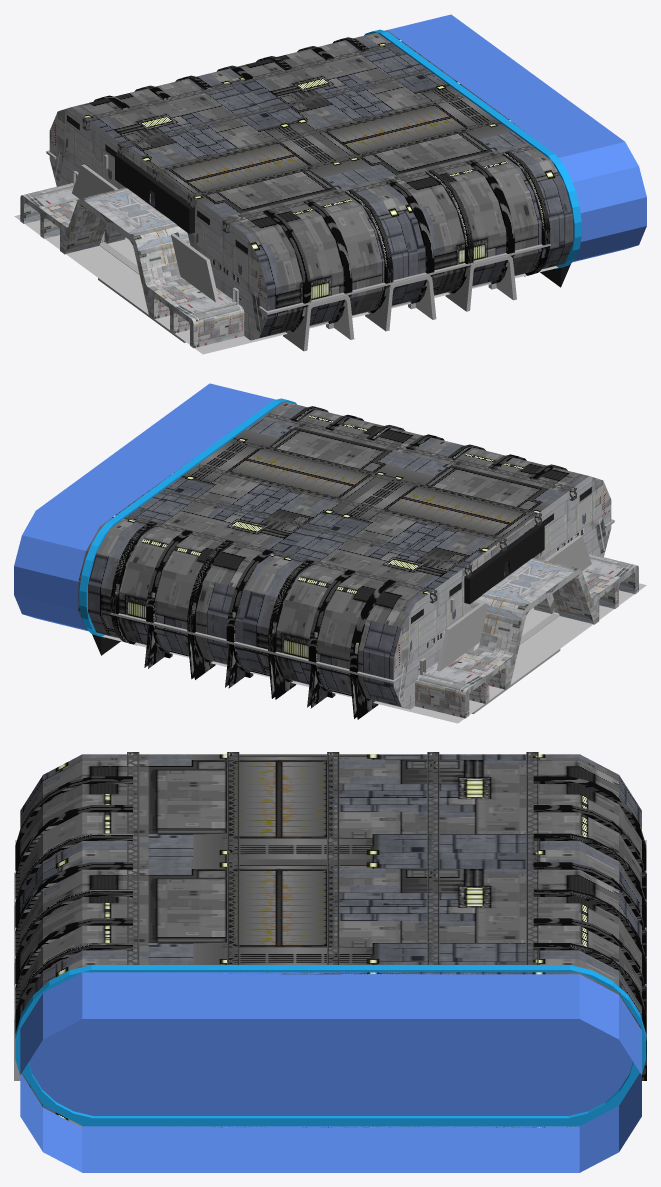
The model's file is LandingBay.obj.
The picture shows the model from 3 angles, top to bottom: view 1: azimuth 30°, elevation 25°; view 2: azimuth 150°, elevation 25°; view 3: azimuth 270°, elevation 25°; orthographic projection. The views are drawn at different scales.
Visible parts, largest first — view 1: spanel3, wpanels, blueShade, structs, grey, girder, asphalt, black, bluelight; view 2: spanel3, wpanels, blueShade, structs, girder, grey, asphalt, services1, black, bluelight; view 3: spanel3, blueShade, structs, bluelight, girder, grey.
Boxes of the visible parts, bbox=[...] form: spanel3: bbox=[72, 30, 572, 339]; wpanels: bbox=[20, 107, 267, 348]; blueShade: bbox=[387, 14, 646, 261]; structs: bbox=[94, 37, 550, 331]; grey: bbox=[46, 150, 550, 351]; girder: bbox=[82, 43, 533, 233]; asphalt: bbox=[14, 215, 558, 354]; black: bbox=[115, 153, 570, 299]; bluelight: bbox=[153, 29, 581, 268]; spanel3: bbox=[78, 401, 588, 708]; wpanels: bbox=[393, 476, 638, 718]; blueShade: bbox=[14, 383, 275, 631]; structs: bbox=[110, 406, 567, 700]; girder: bbox=[126, 413, 576, 603]; grey: bbox=[110, 519, 614, 713]; asphalt: bbox=[102, 583, 646, 723]; services1: bbox=[144, 625, 378, 719]; black: bbox=[92, 523, 544, 669]; bluelight: bbox=[79, 398, 507, 637]; spanel3: bbox=[20, 754, 641, 1127]; blueShade: bbox=[20, 972, 641, 1172]; structs: bbox=[15, 776, 646, 1033]; bluelight: bbox=[15, 965, 646, 1126]; girder: bbox=[127, 752, 538, 964]; grey: bbox=[14, 840, 646, 1080].
Size of the model in its own units: 118 by 36.63 by 105.
